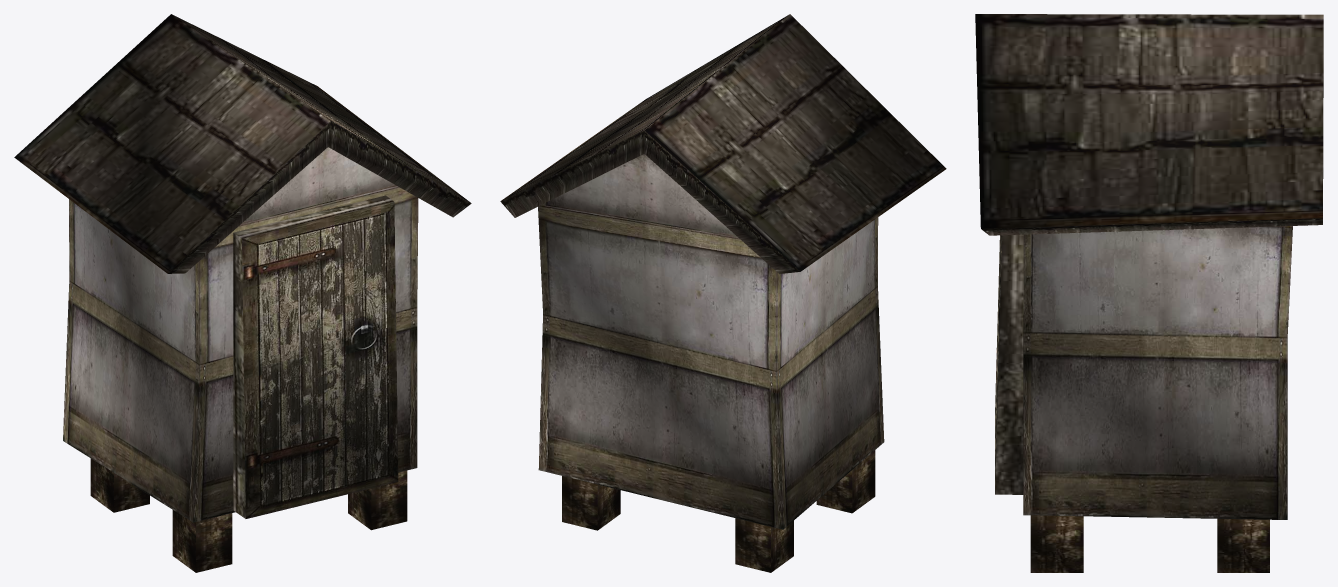
The model's file is house4-04.obj.
The picture shows the model from 3 angles, left to right: view 1: azimuth 30°, elevation 25°; view 2: azimuth 150°, elevation 25°; view 3: azimuth 270°, elevation 25°; orthographic projection. The views are drawn at different scales.
Size of the model in its own units: 2.41 by 3.33 by 2.09.
Materials: 1 (1 with a texture image).
